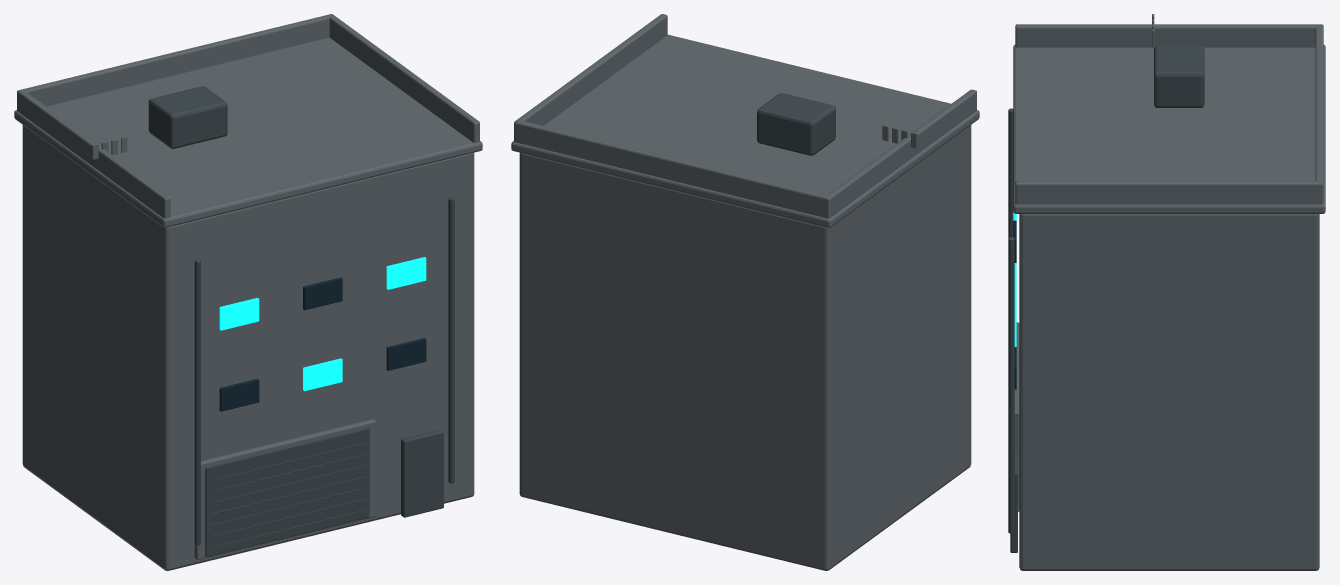
The model's file is service-block_a.glb.
3 renders of one model, left to right at view 1: azimuth 30°, elevation 25°; view 2: azimuth 150°, elevation 25°; view 3: azimuth 270°, elevation 25°, orthographic. The views are drawn at different scales.
Parts seen in each view (by area): view 1: ND_Batch_structure, ND_Batch_metal, ND_Batch_glass, ND_Batch_practical; view 2: ND_Batch_structure, ND_Batch_metal; view 3: ND_Batch_structure, ND_Batch_metal.
Part boxes in pixels (x1,y1,x2,y2): ND_Batch_structure: (14,14,482,570); ND_Batch_metal: (148,86,454,556); ND_Batch_glass: (219,277,426,411); ND_Batch_practical: (219,257,426,391); ND_Batch_structure: (511,14,979,570); ND_Batch_metal: (757,93,835,155); ND_Batch_structure: (1013,14,1325,570); ND_Batch_metal: (1008,46,1204,552).
Size of the model in its own units: 8.79 by 10.17 by 7.19.
